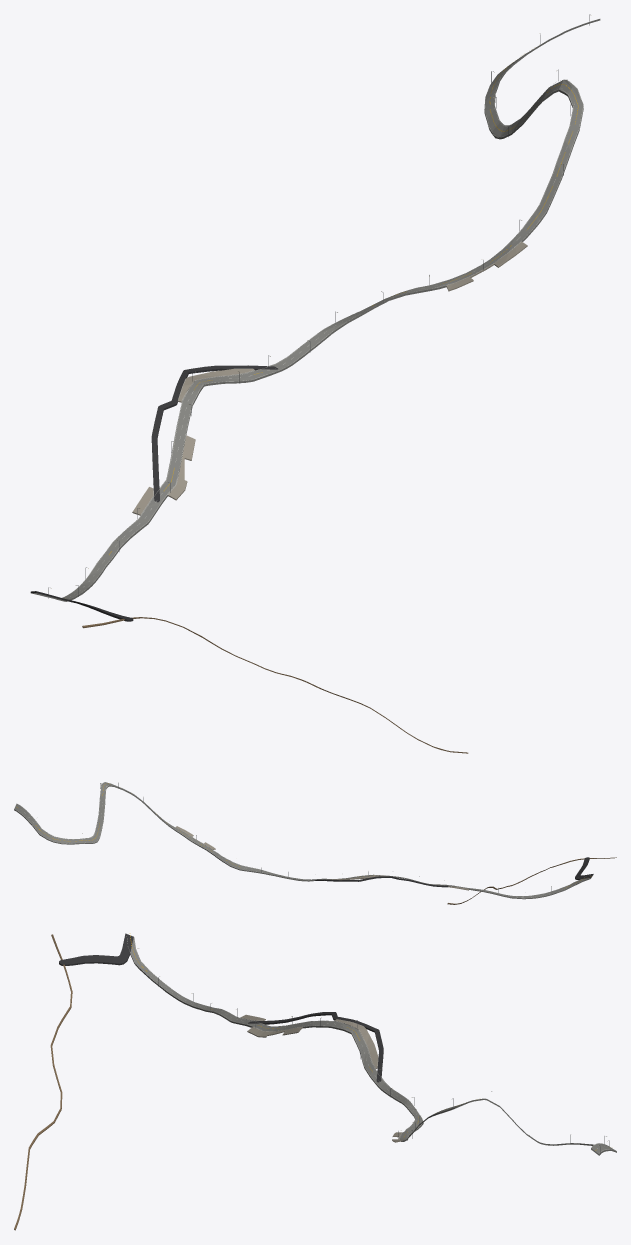
The model's file is 16-54740-29717.ffb58584.glb.
3 renders of one model, top to bottom at view 1: azimuth 30°, elevation 25°; view 2: azimuth 150°, elevation 25°; view 3: azimuth 270°, elevation 25°, orthographic. The views are drawn at different scales.
Bounding box in the file's own units: 588 × 240 × 451.
